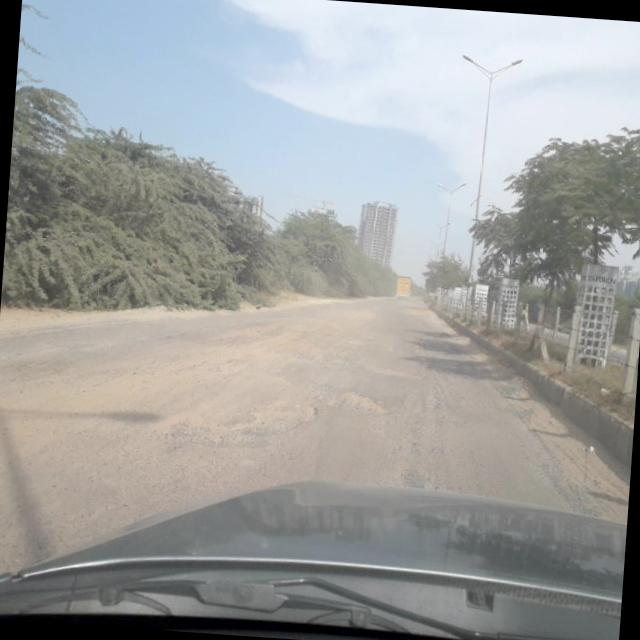pothole: (156, 384, 322, 460), (199, 303, 350, 367), (320, 377, 401, 428), (0, 342, 73, 393), (358, 354, 421, 382)
